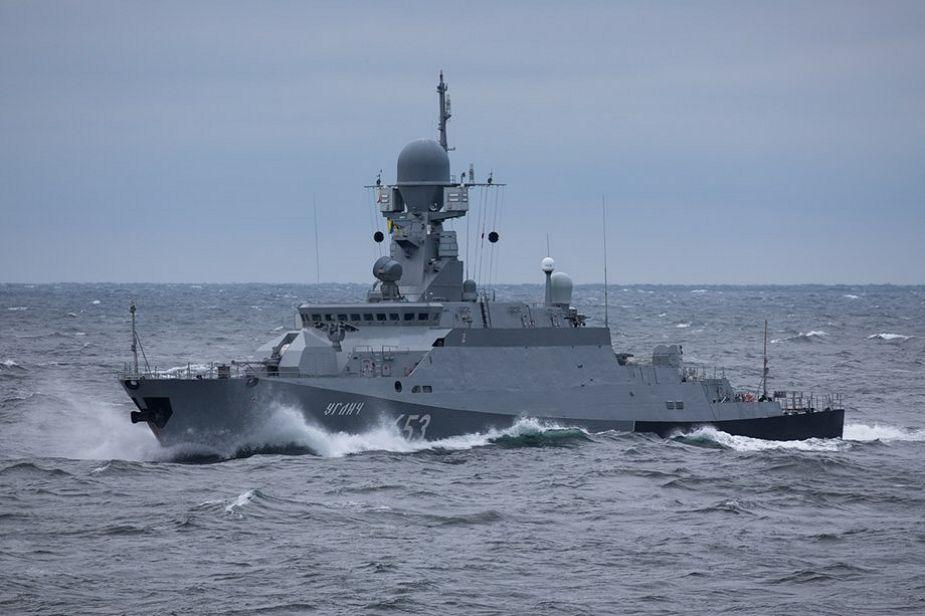MIL_Ship: (112, 66, 849, 462)
